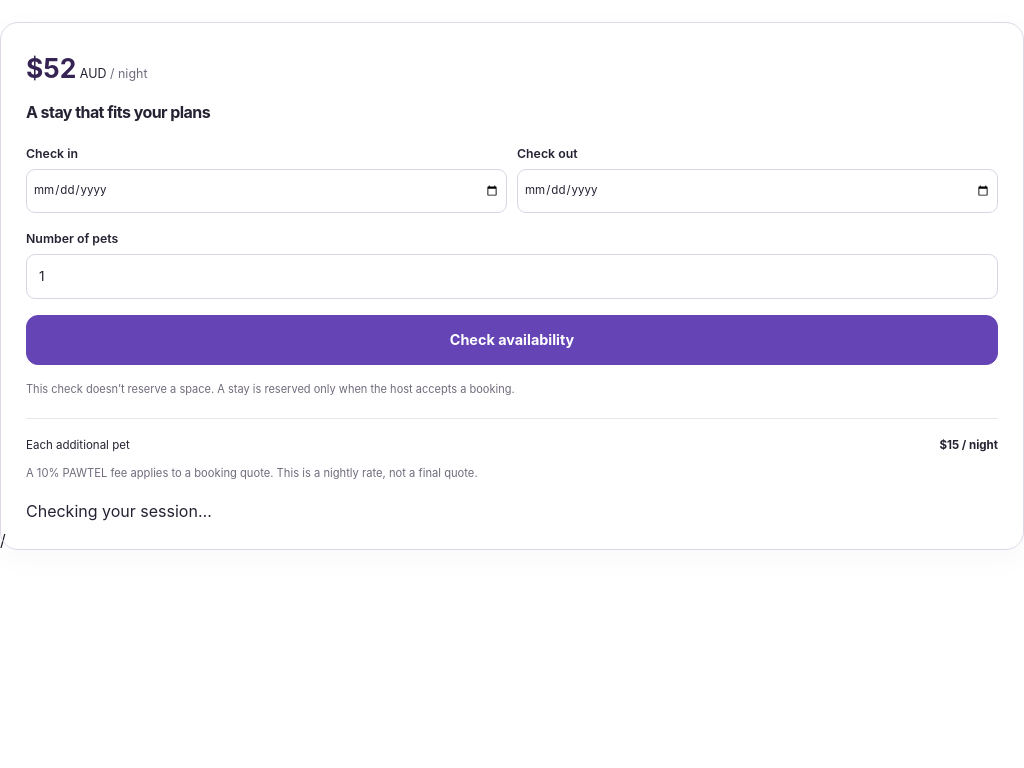
Scenario: checks real availability and hides stale results after editing
The width and height of the screenshot is (1024, 768).
Type "2029-11-10" into the date field labelled "Check in" at (266, 191), box left=26, top=169, right=507, bottom=213
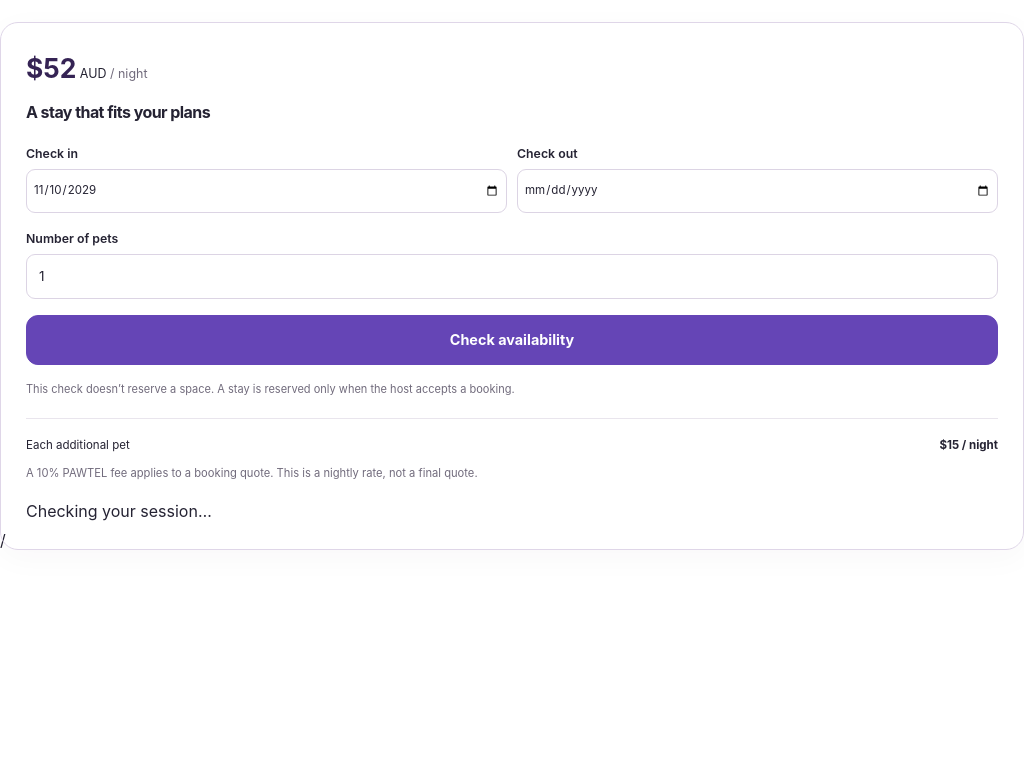
Type "2029-11-12" into the date field labelled "Check out" at (758, 191), box left=517, top=169, right=998, bottom=213
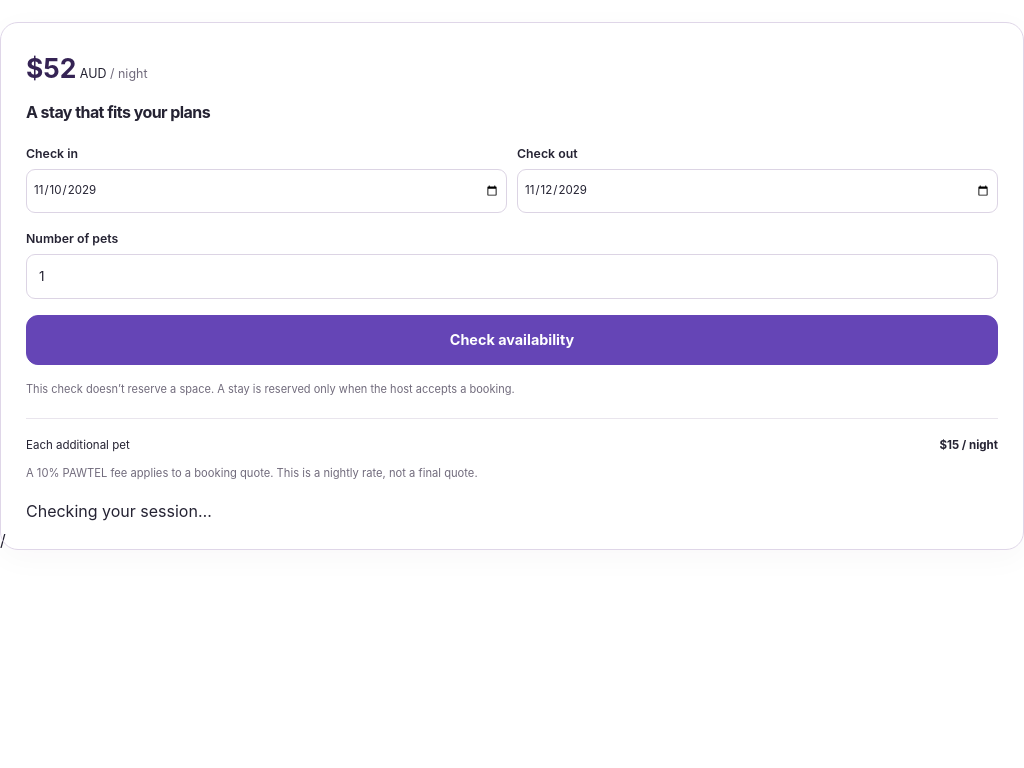
Click the button "Check availability" at (512, 340), box left=26, top=315, right=998, bottom=365
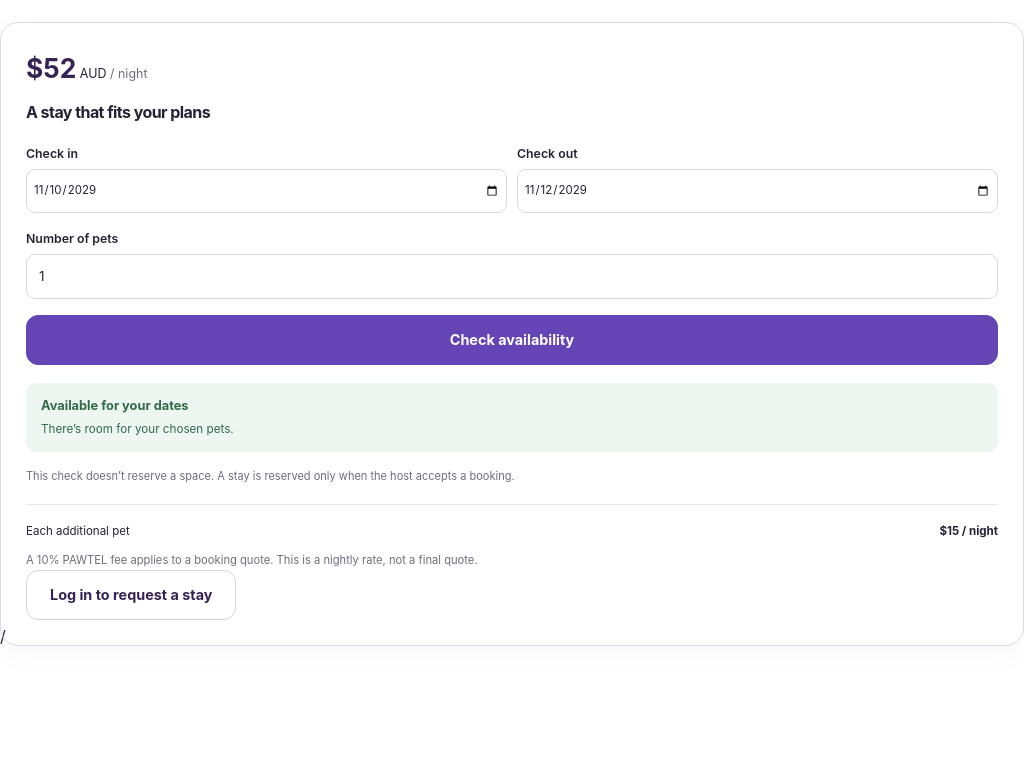
Expected: the text "doesn’t reserve a space" is shown, left=26, top=469, right=515, bottom=483
Expected: the text "Available for your dates" is shown, left=41, top=398, right=188, bottom=413
Replace the text in the number field labelled "Number of pets" with "2" at (512, 277), box left=26, top=254, right=998, bottom=299
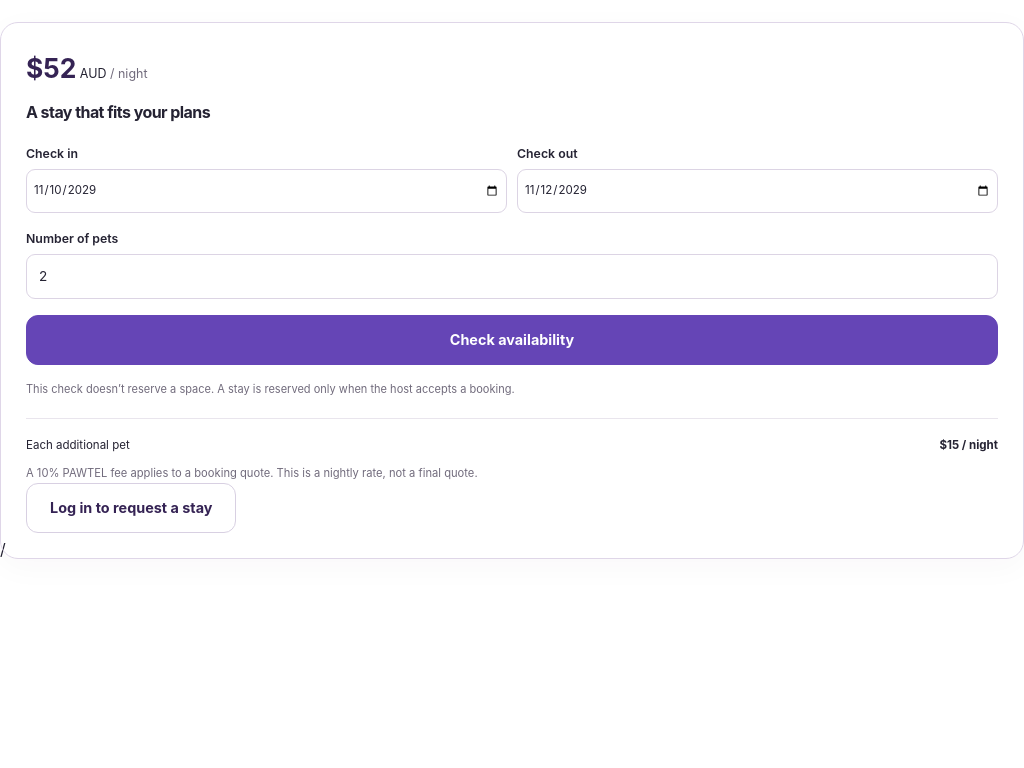
Expected: the text "Available for your dates" is gone
